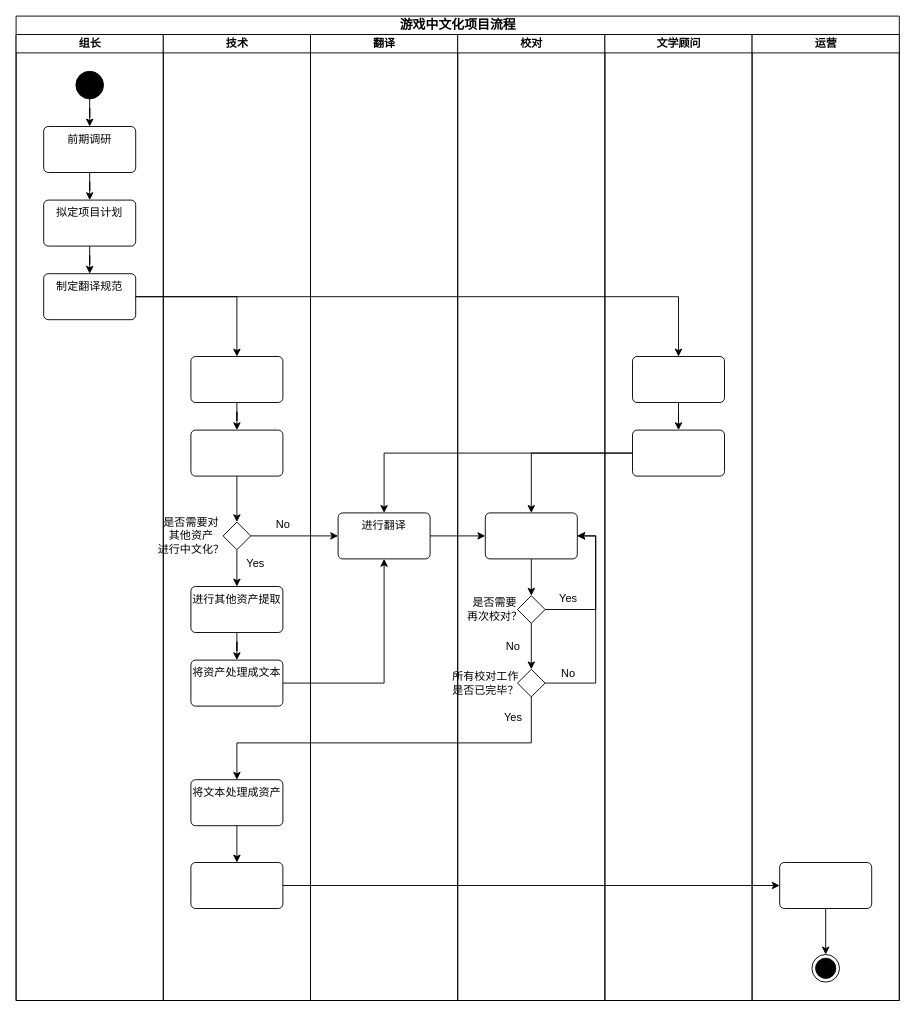
This 915x1017 diagram has some shape labels left out. Each missing label, with the centre of its shape:
"为翻译提供支持" goes at [678,452].
"将资产重新打包进游戏" goes at [236,885].
"校对翻译" goes at [530,535].
"获取源程序" goes at [236,379].
"进行发布或交付" goes at [825,885].
"进行文本提取" goes at [236,452].
"进行项目文化研究" goes at [678,379].
